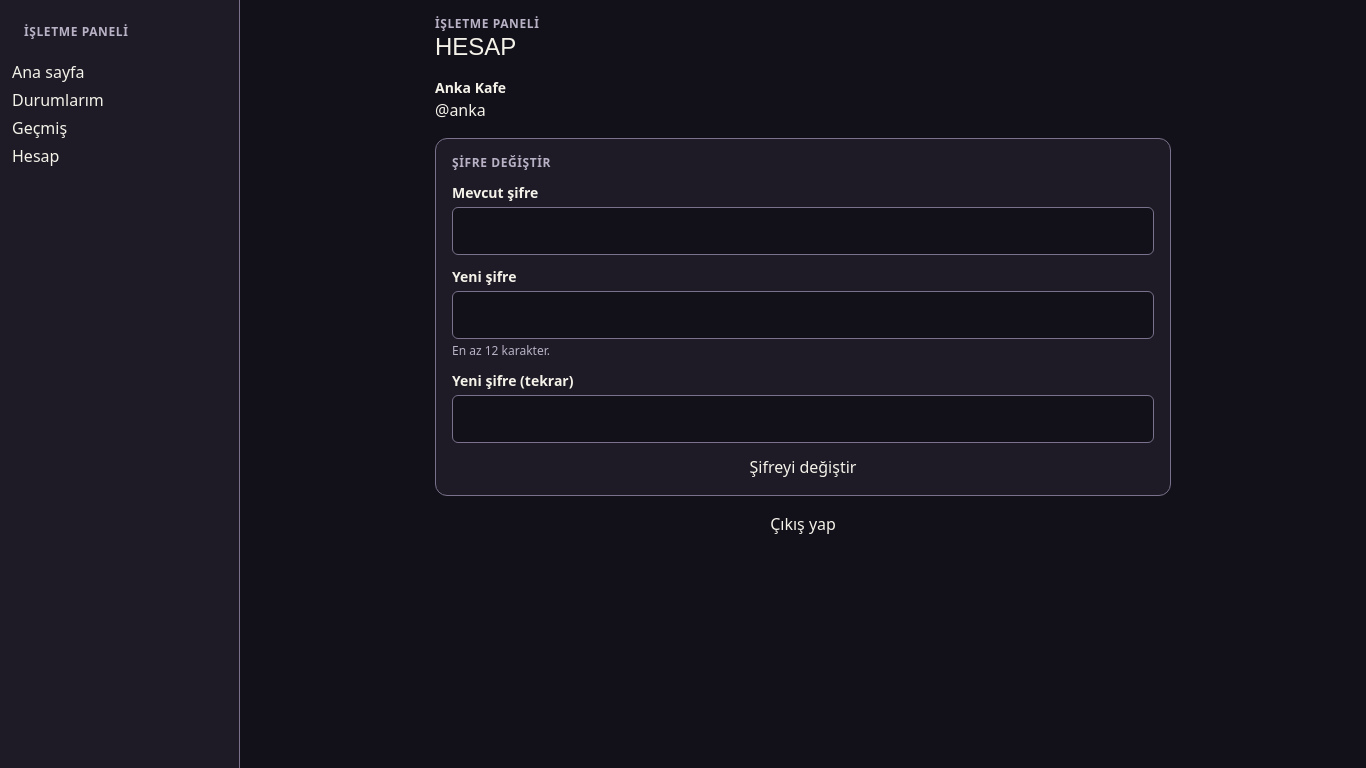
Test case: BusinessAccountPage › uyuşmayan tekrarda hata verir
Type "eski-sifre-123" into the password field labelled "Mevcut şifre" at (803, 231), box [452,207,1154,255]
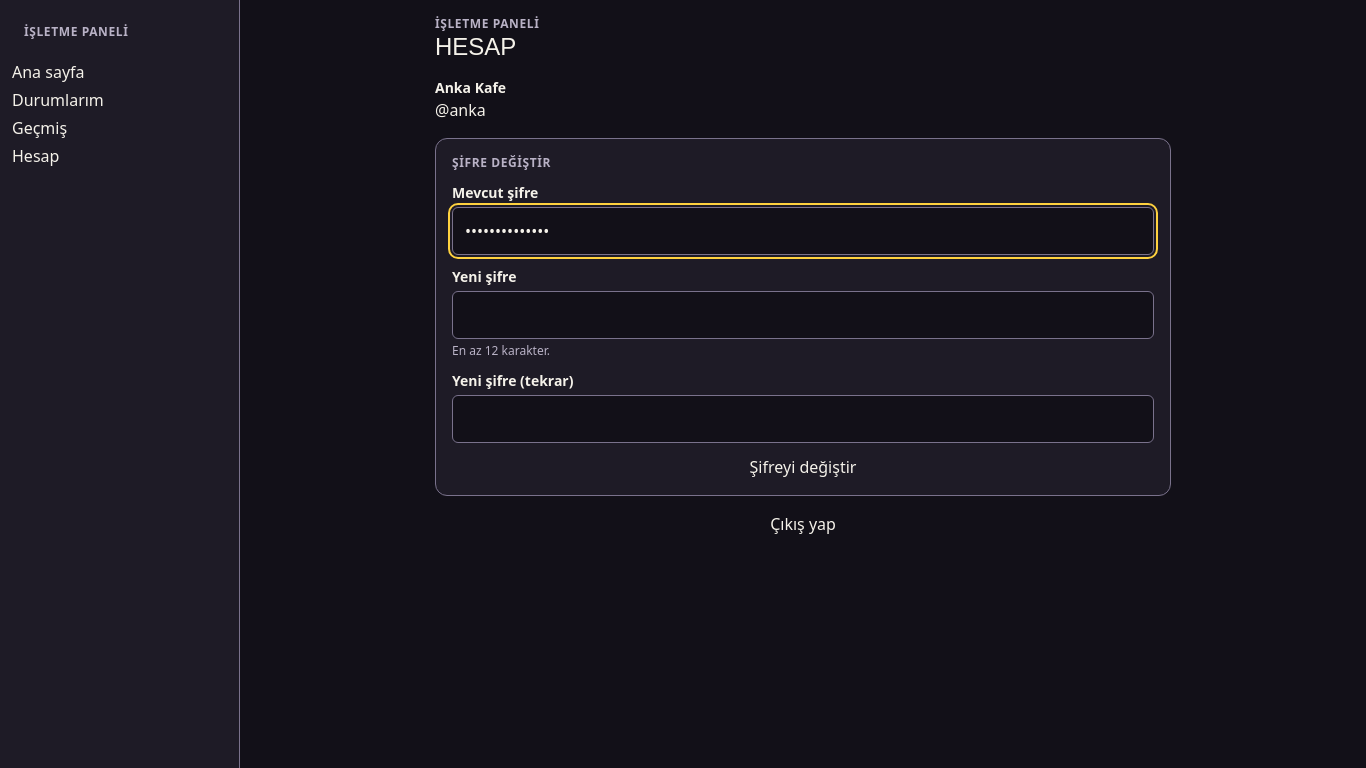
Type "yeni-sifre-1234" into the password field labelled "Yeni şifre" at (803, 315), box [452,291,1154,339]
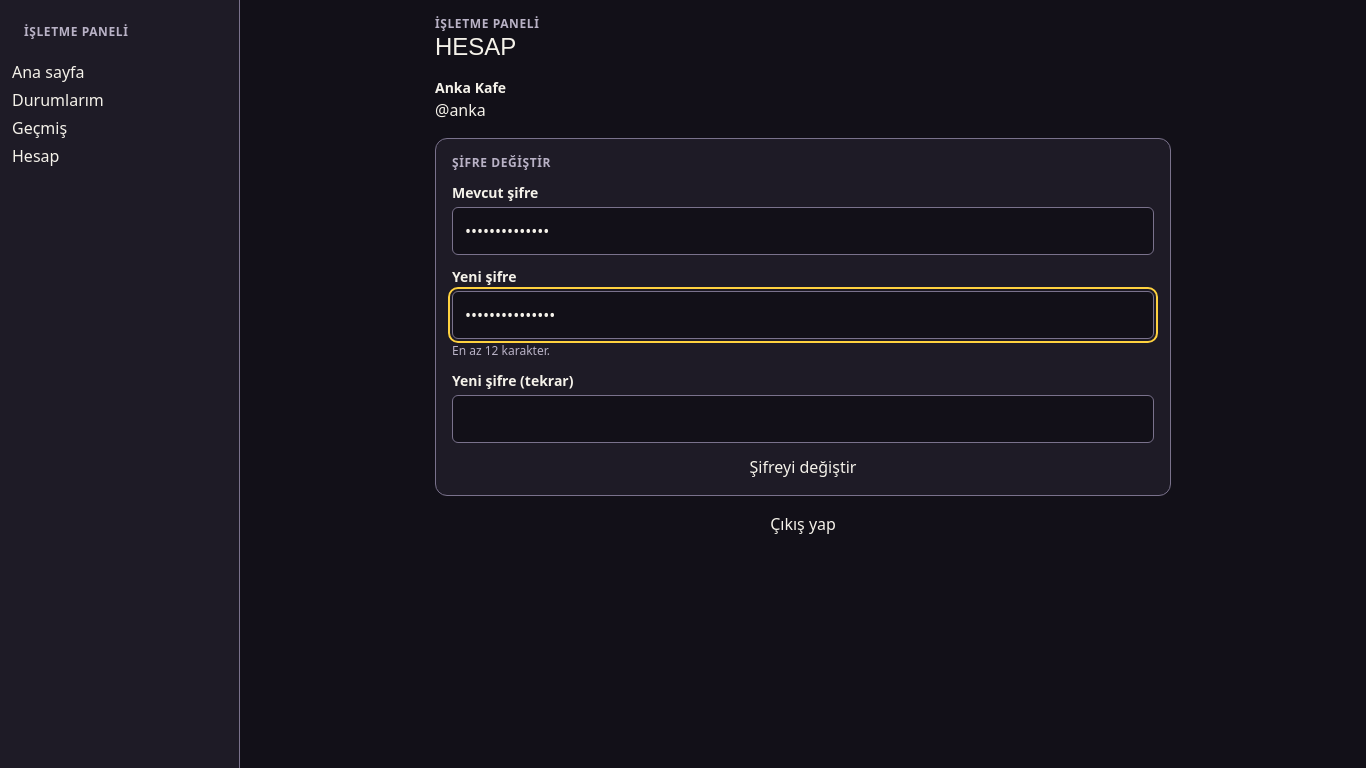
Type "yeni-sifre-9876" into the password field labelled "Yeni şifre (tekrar)" at (803, 419), box [452,395,1154,443]
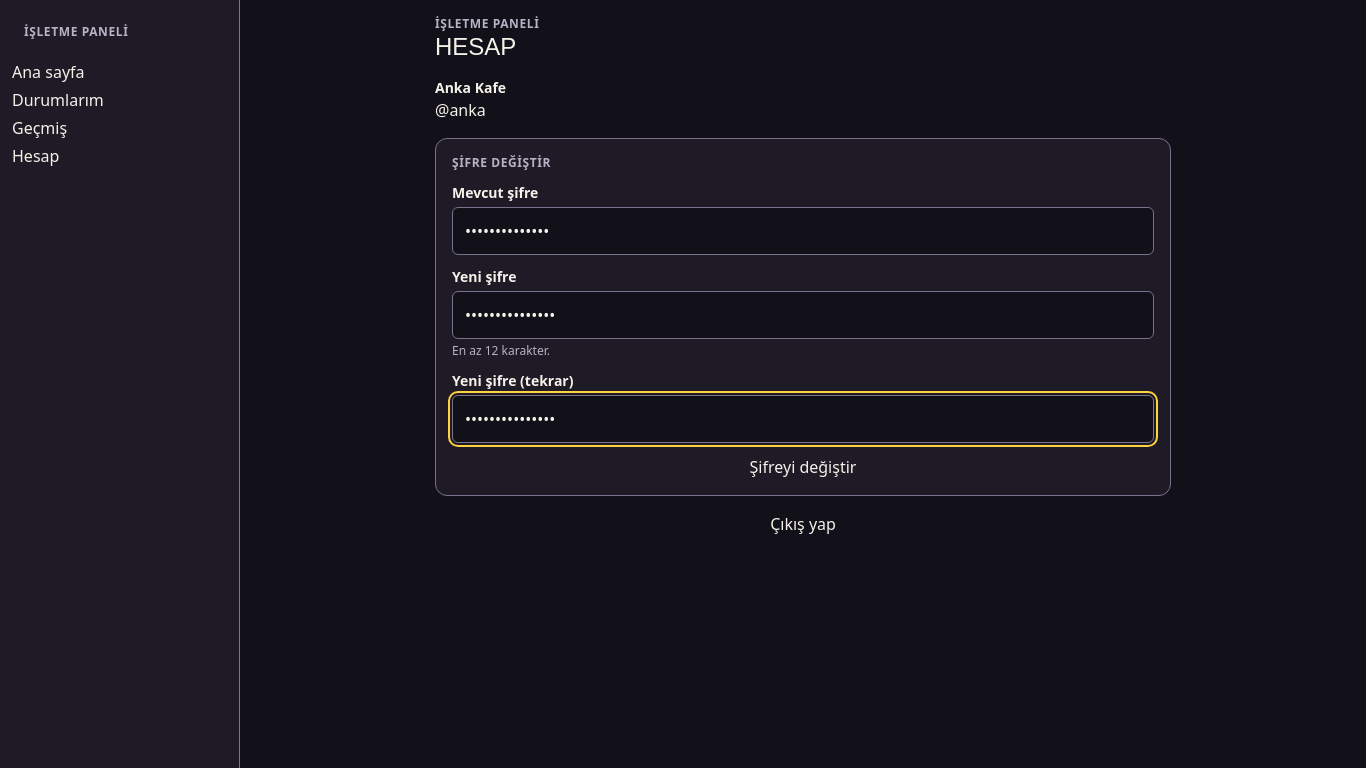
Click the button "Şifreyi değiştir" at (803, 467), box [452,455,1154,479]
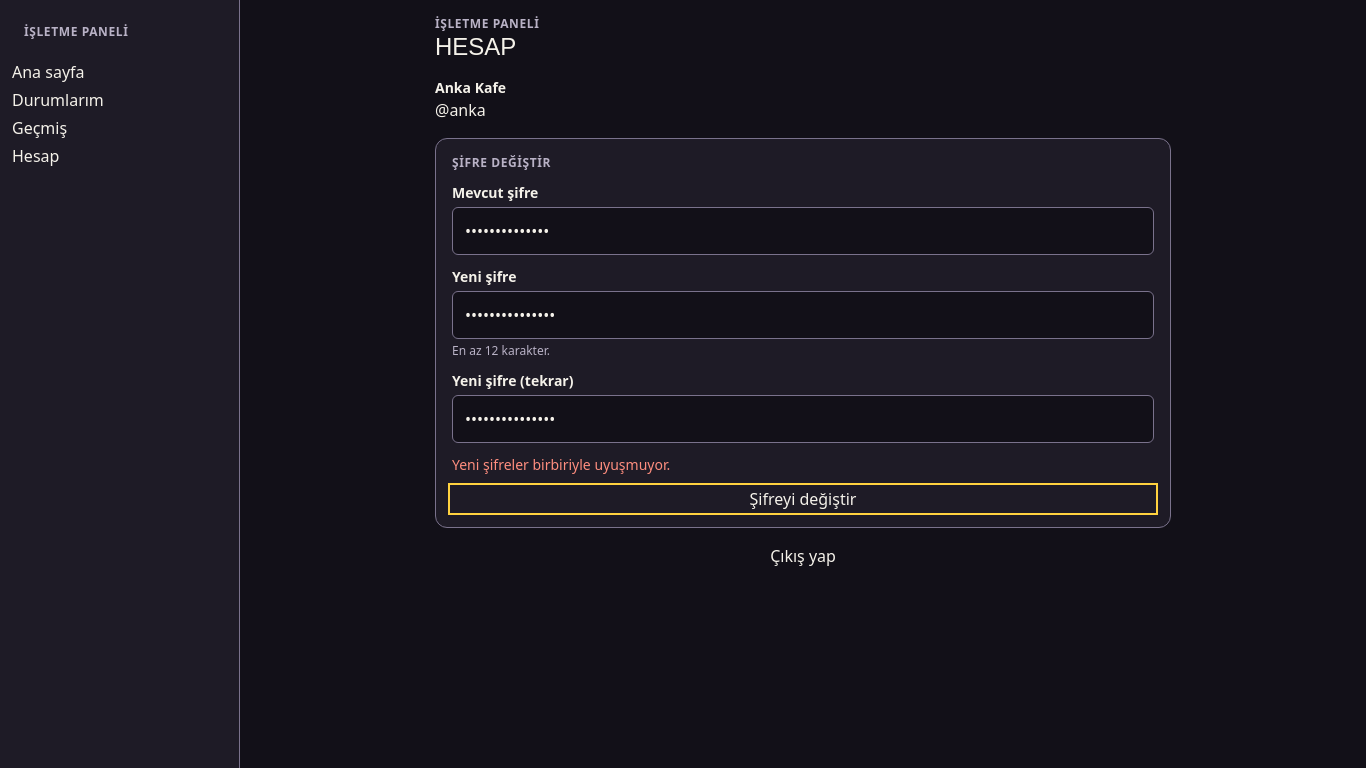
Result: the message reads "Yeni şifreler birbiriyle uyuşmuyor." at [452,455,670,474]
